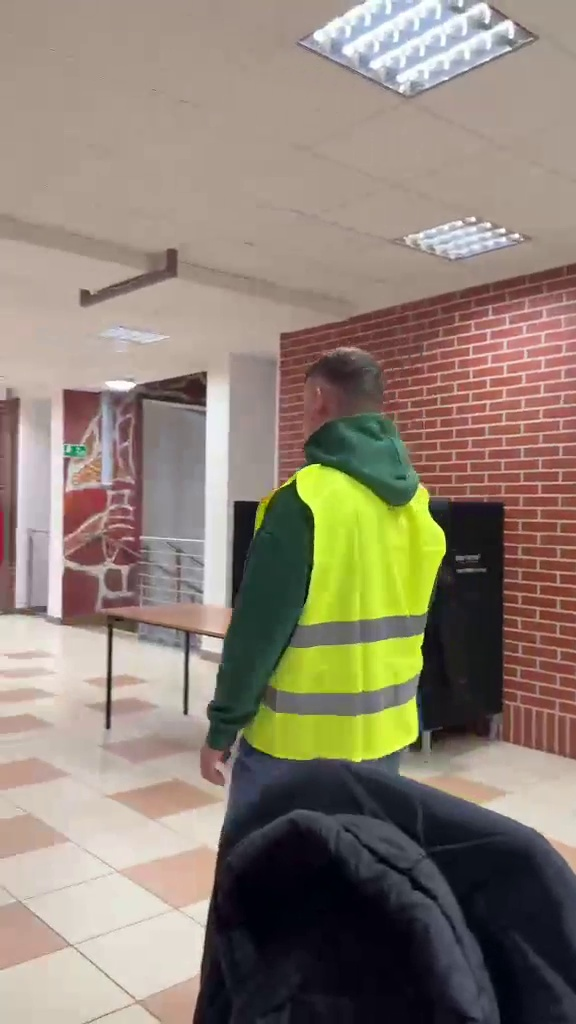vest: (204, 346, 442, 788)
